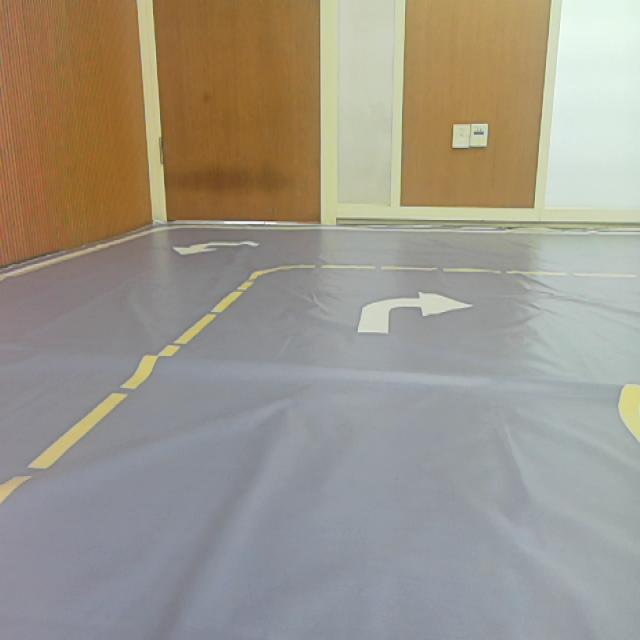left_lane: (0, 274, 256, 507)
right_lane: (615, 405, 640, 443)
